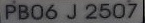character: (112, 1, 125, 19), (30, 3, 43, 20), (17, 3, 29, 20), (45, 3, 57, 20), (85, 3, 97, 20), (99, 2, 110, 19), (126, 2, 137, 19), (5, 3, 16, 19), (66, 3, 76, 19)
